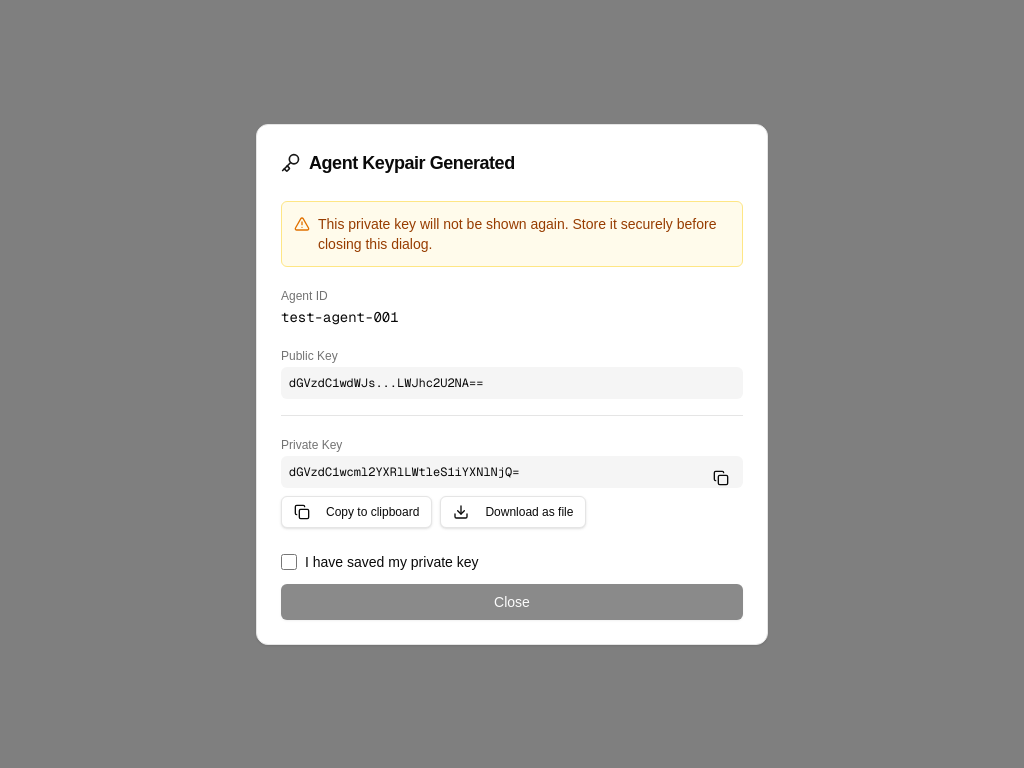
Scenario: PrivateKeyModal › disables Close button when checkbox is unchecked
Click the checkbox with test id "confirm-checkbox" at x=289, y=562, box [281,554,297,570]
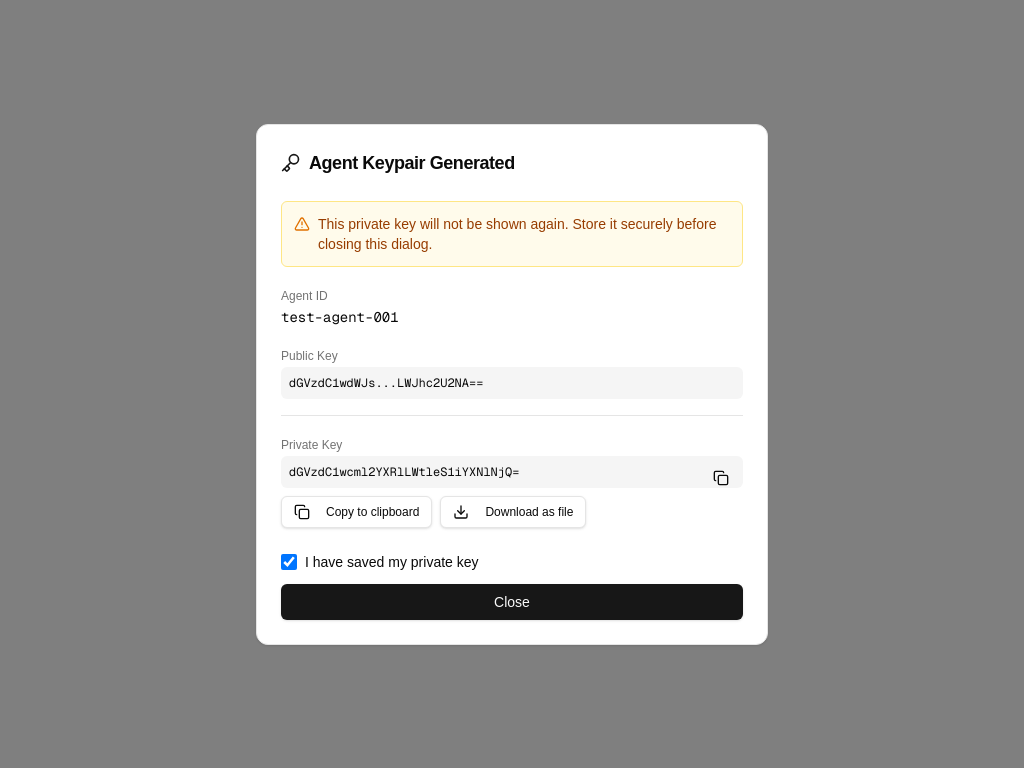
Click the checkbox with test id "confirm-checkbox" at x=289, y=562, box [281,554,297,570]
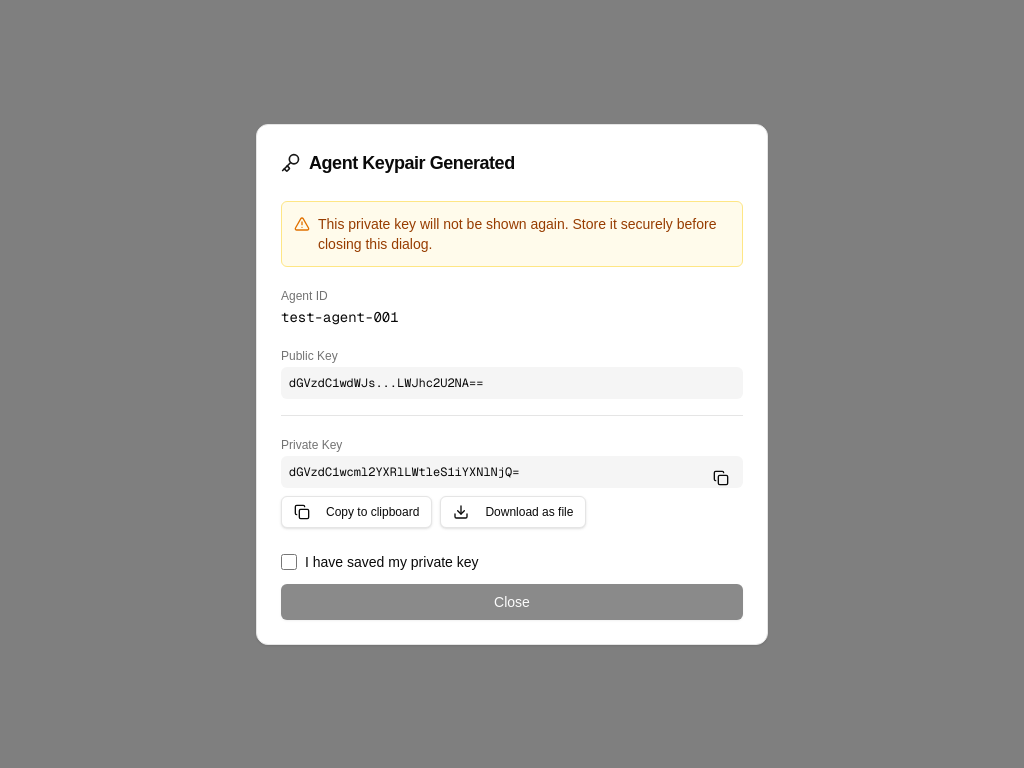
Check: the button "Close" is disabled, box [281,584,743,620]
